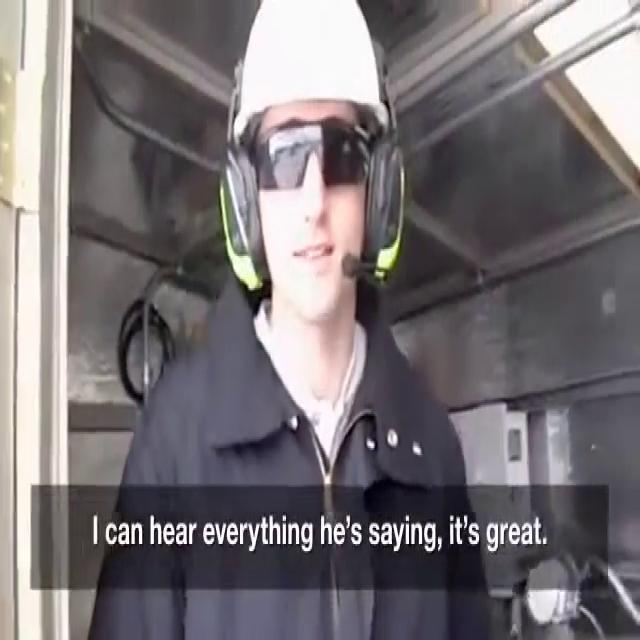earmuff: (213, 134, 276, 298), (362, 123, 408, 291)
glasses: (246, 113, 374, 200)
